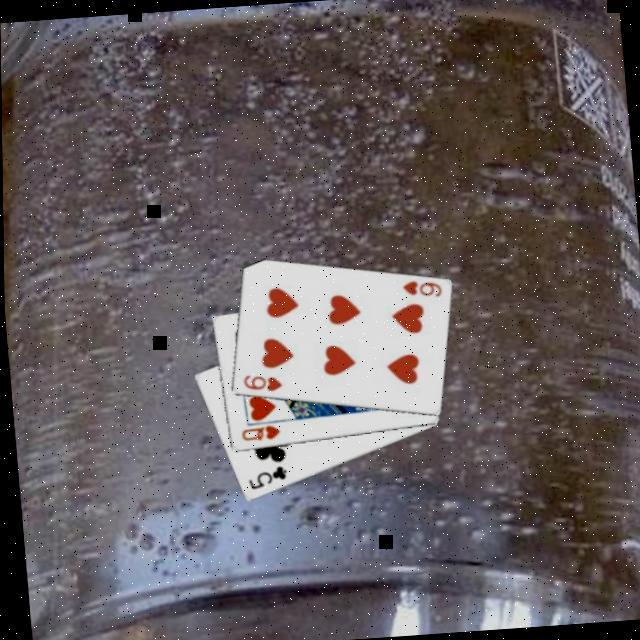5C: (243, 463, 289, 494)
6H: (239, 371, 284, 397), (398, 277, 443, 303)
QH: (236, 422, 281, 445)
